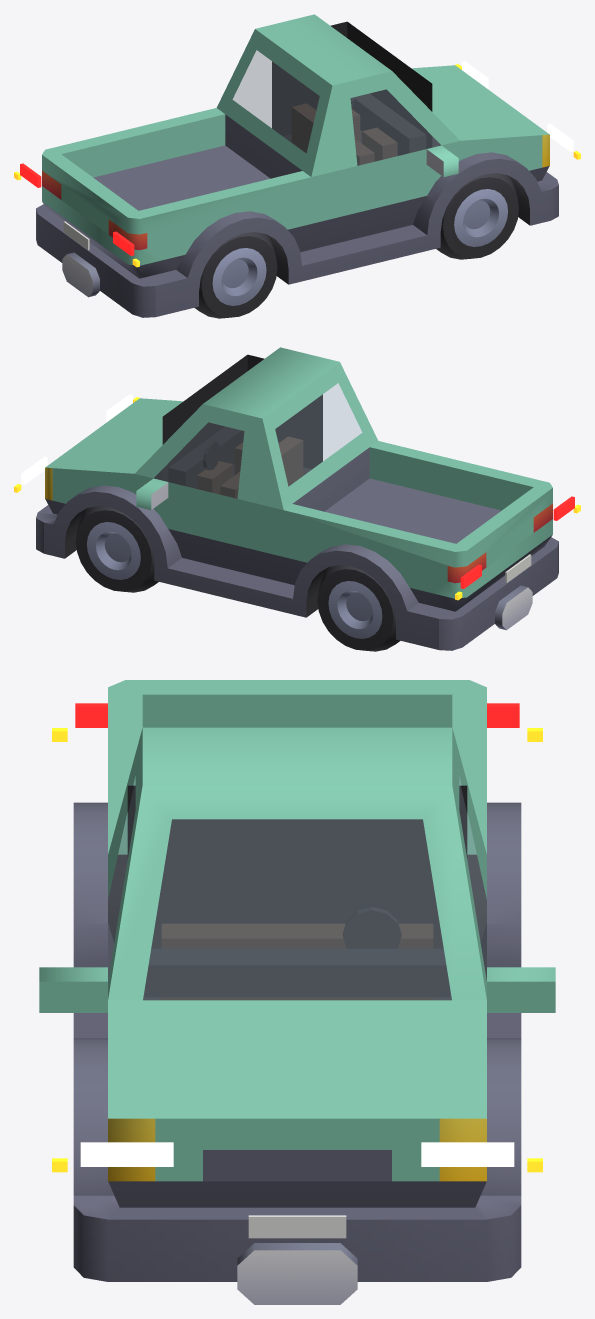
The model's file is veh_pickup.glb.
3 renders of one model, top to bottom at view 1: azimuth 30°, elevation 25°; view 2: azimuth 150°, elevation 25°; view 3: azimuth 270°, elevation 25°, orthographic. The views are drawn at different scales.
Visible parts, largest first — view 1: body, wheel_fr, wheel_rr, interior, interior_dash, interior_bench, interior_seat_-1, light_head, light_tail; view 2: body, wheel_fl, wheel_rl, interior, interior_dash, interior_bench, interior_seat_1, light_head, light_tail, interior_steer; view 3: body, interior, interior_dash, interior_bench, light_head, plate_front, interior_steer, light_tail.
Part boxes in pixels (<box>): body: <box>36,14,558,317</box>; wheel_fr: <box>436,173,518,259</box>; wheel_rr: <box>194,232,277,318</box>; interior: <box>272,21,432,155</box>; interior_dash: <box>352,93,426,153</box>; interior_bench: <box>291,103,374,165</box>; interior_seat_-1: <box>362,127,397,161</box>; light_head: <box>462,61,573,151</box>; light_tail: <box>20,163,134,255</box>; body: <box>36,347,558,650</box>; wheel_fl: <box>76,506,158,592</box>; wheel_rl: <box>317,565,400,651</box>; interior: <box>162,354,322,488</box>; interior_dash: <box>168,426,244,486</box>; interior_bench: <box>220,436,303,498</box>; interior_seat_1: <box>197,461,232,494</box>; light_head: <box>21,394,132,484</box>; light_tail: <box>460,496,574,588</box>; interior_steer: <box>203,441,220,470</box>; body: <box>39,680,555,1304</box>; interior: <box>127,785,467,1000</box>; interior_dash: <box>144,948,450,997</box>; interior_bench: <box>161,923,433,1000</box>; light_head: <box>80,1142,514,1166</box>; plate_front: <box>248,1215,346,1238</box>; interior_steer: <box>343,907,401,948</box>; light_tail: <box>75,703,519,727</box>.
Bounding box in the file's own units: 5.25 × 2.29 × 2.64.
9 materials, 1 textured.
